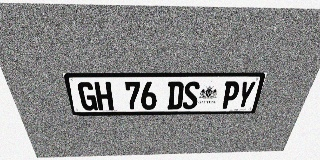6: (141, 82, 157, 110)
7: (124, 82, 141, 110)
D: (167, 81, 184, 109)
G: (77, 82, 98, 111)
H: (94, 82, 114, 110)
P: (220, 81, 241, 109)
S: (182, 81, 200, 109)
Y: (235, 81, 257, 108)
